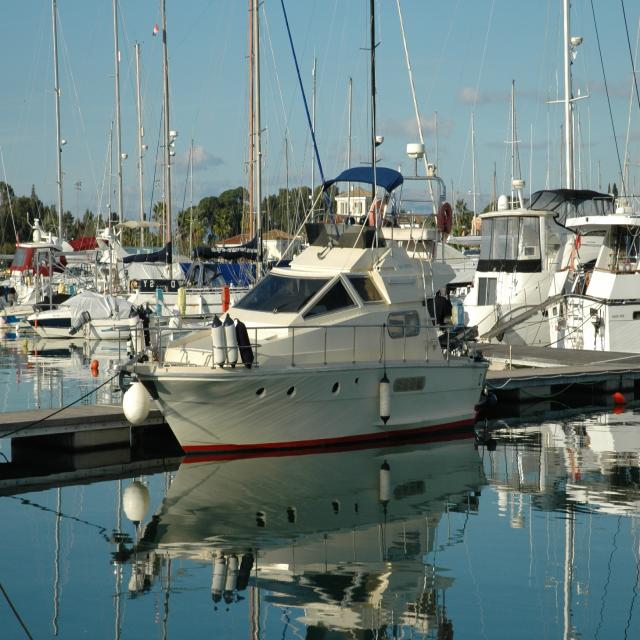houseboat: (147, 169, 490, 453)
